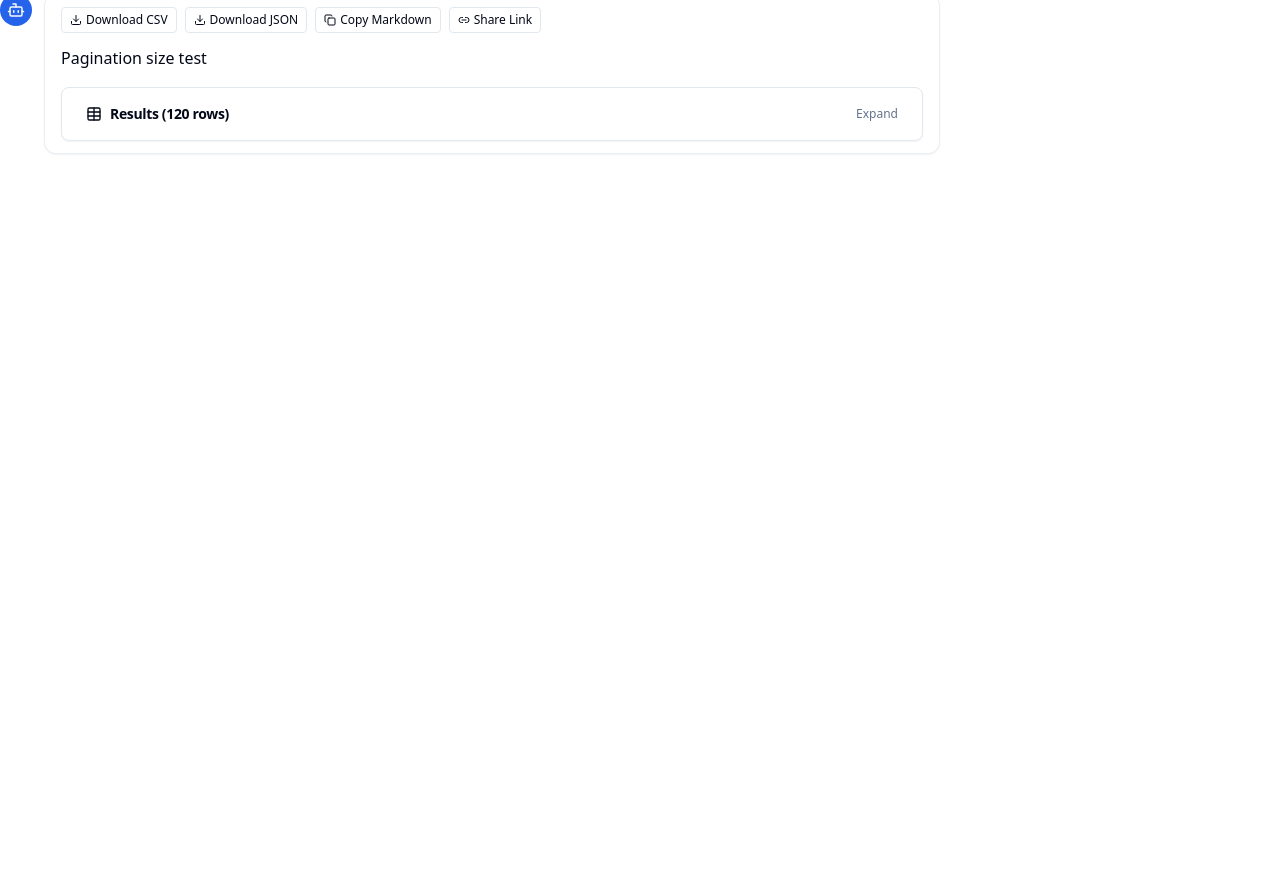
Message › allows changing result table rows per page
Click the text "Results (120 rows)" at (157, 114), box [86,104,229,124]
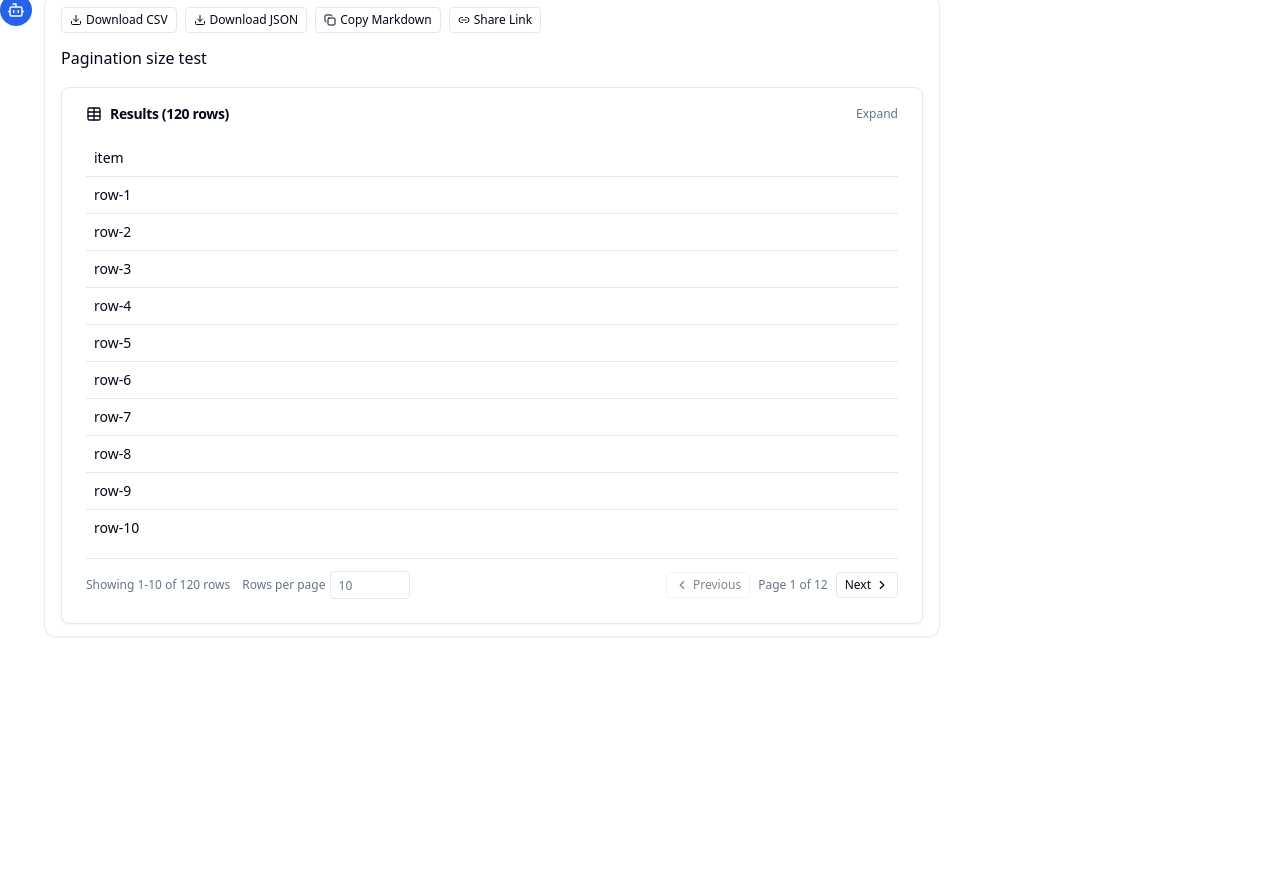
Expected: the text "Page 1 of 12" is shown, [758,577,828,593]
Replace the text in the number field labelled "Rows per page" with "25" at (370, 585), box [330,571,410,599]
(page scrolled)
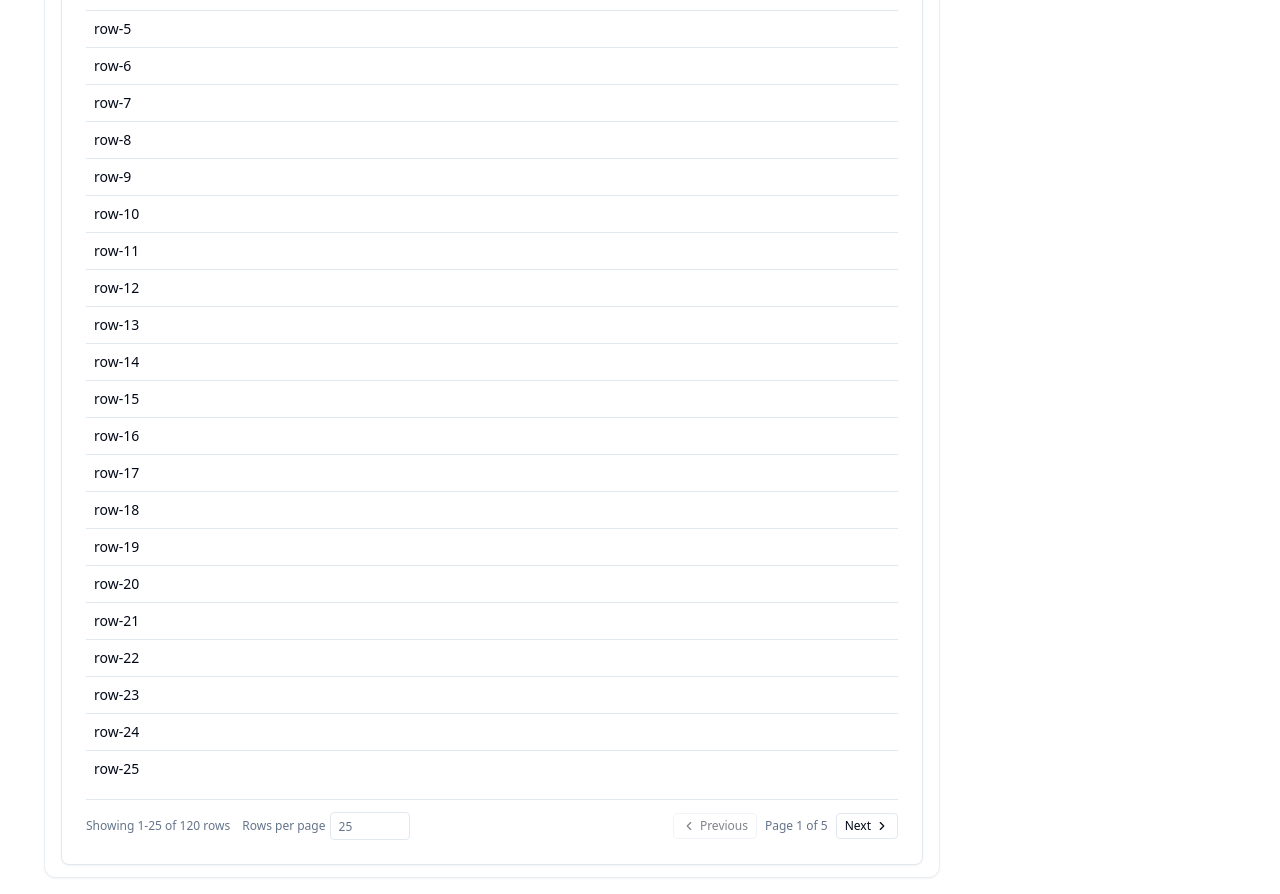
Expected: the text "Page 1 of 5" is shown, [765,818,828,834]
Expected: the text "Showing 1-25 of 120 rows" is shown, [86,818,230,834]
